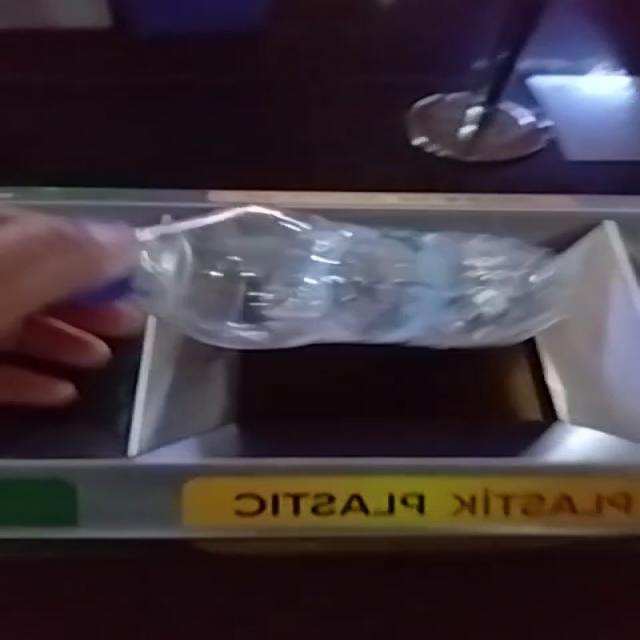plastic: (133, 205, 555, 350)
